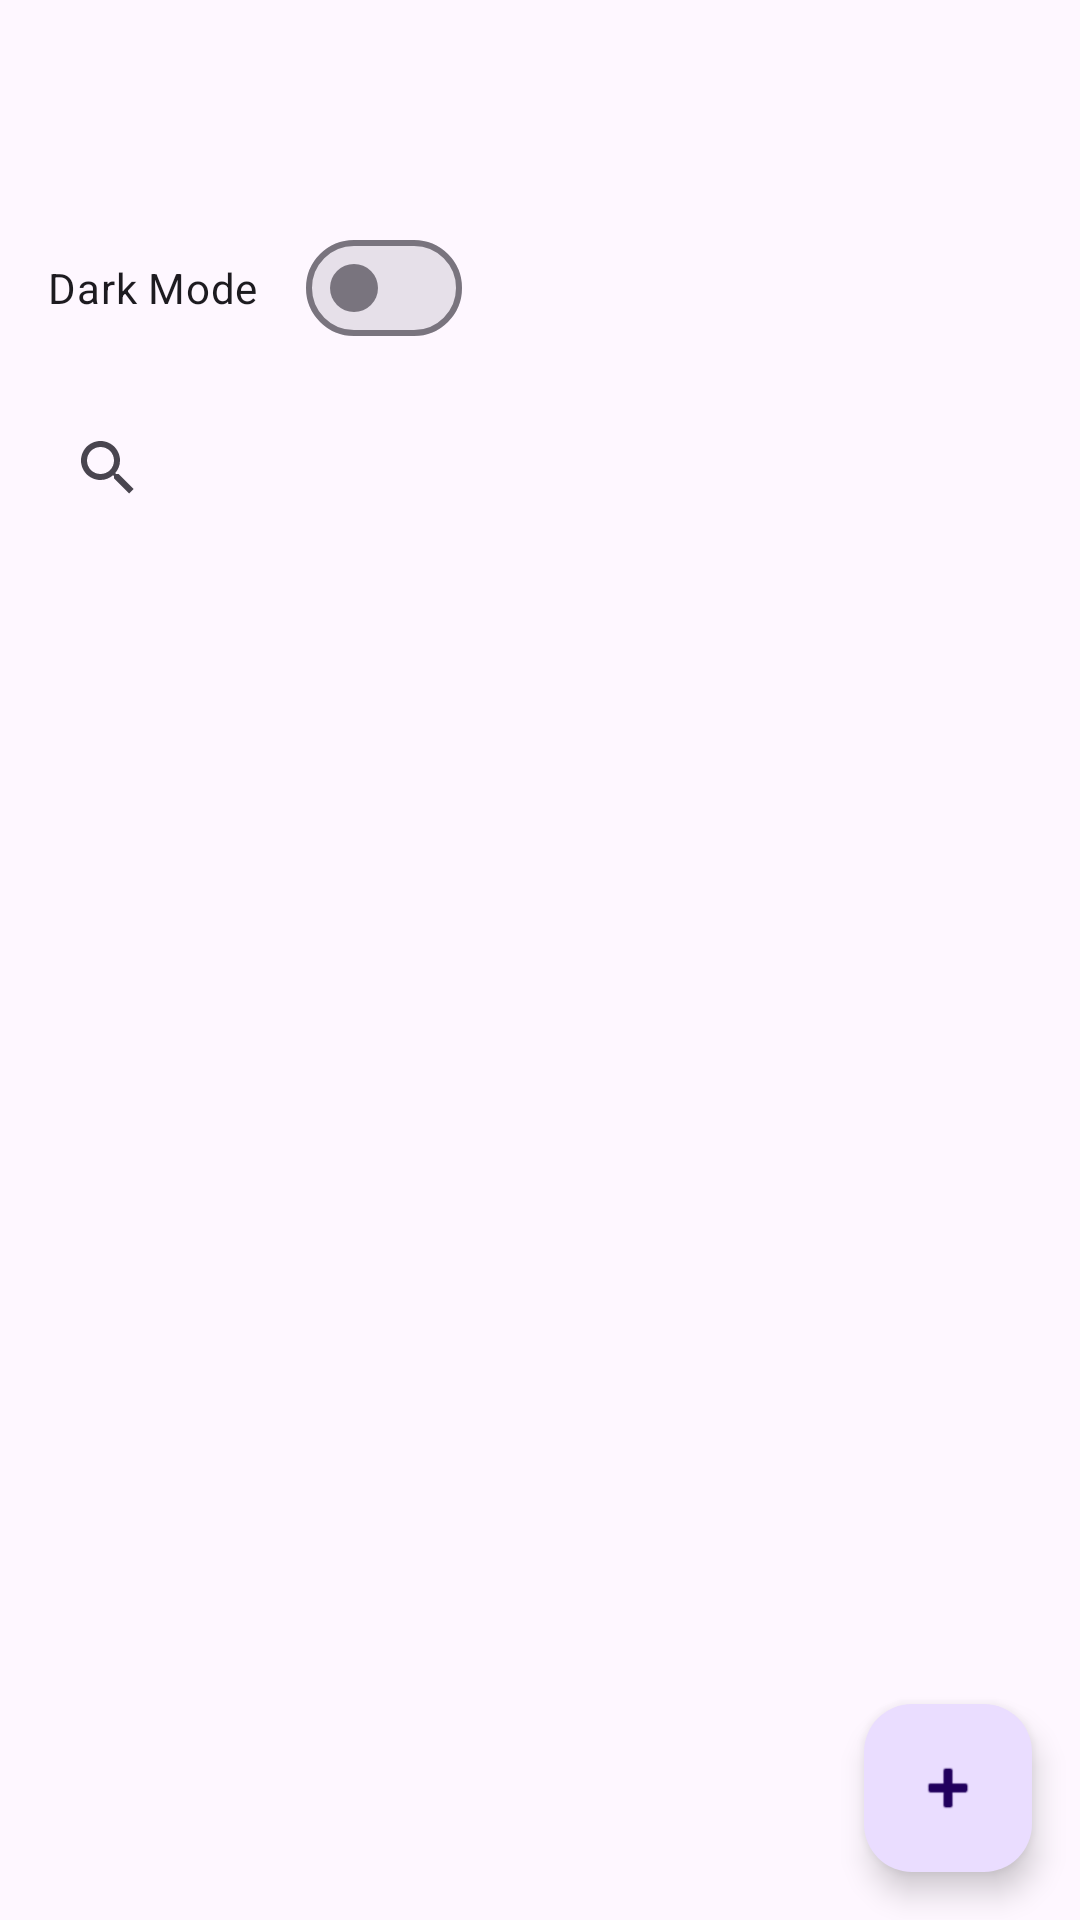

Icons on this 1080w x 1920h Android screen, each with the point to tap as (x=x, y=y):
Add Note: (x=948, y=1788)
